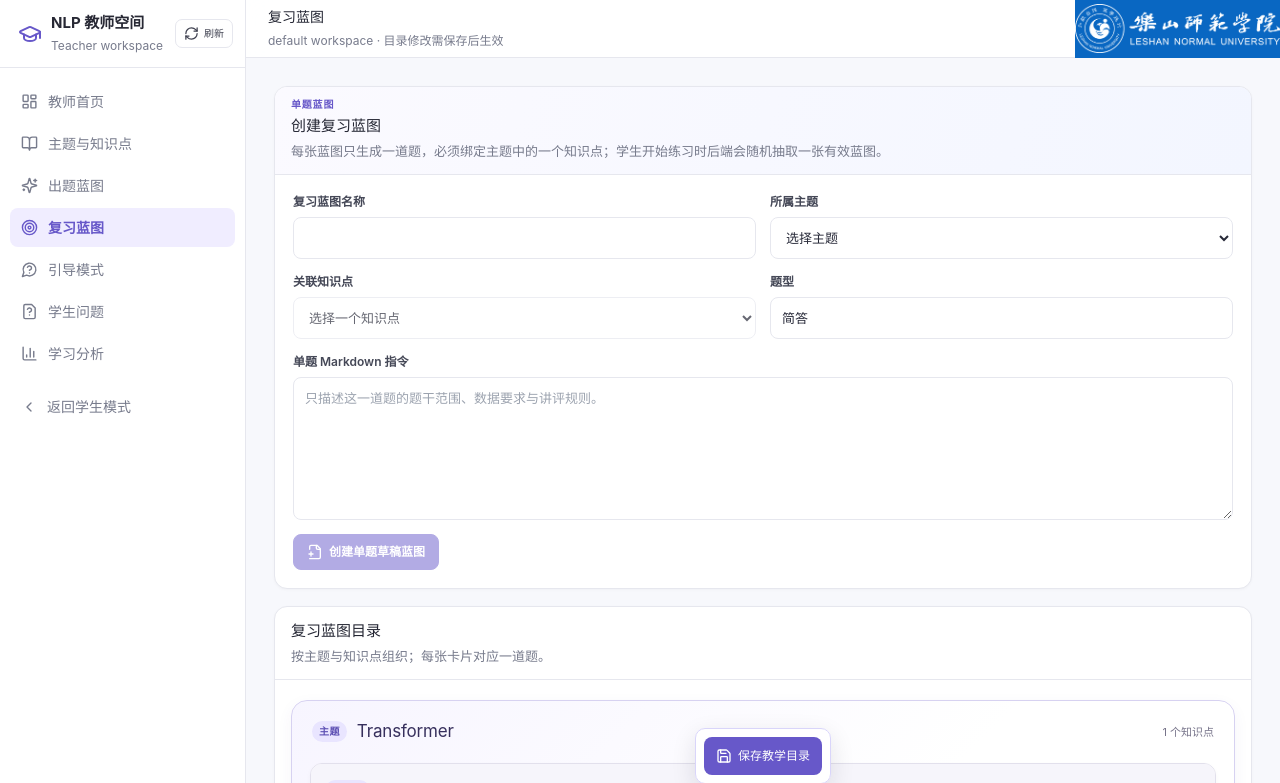
Scenario: TeacherWorkspace catalog CRUD › creates and deletes a review blueprint with its own structured fields
Type "Transformer 复习" into the field named "review蓝图名称" at (524, 238), box [293,217,756,259]
Select "Transformer" in the dropdown named "review所属主题" at (1002, 238), box [770,217,1233,259]
Select "注意力" in the dropdown named "review关联知识点" at (524, 318), box [293,297,756,339]
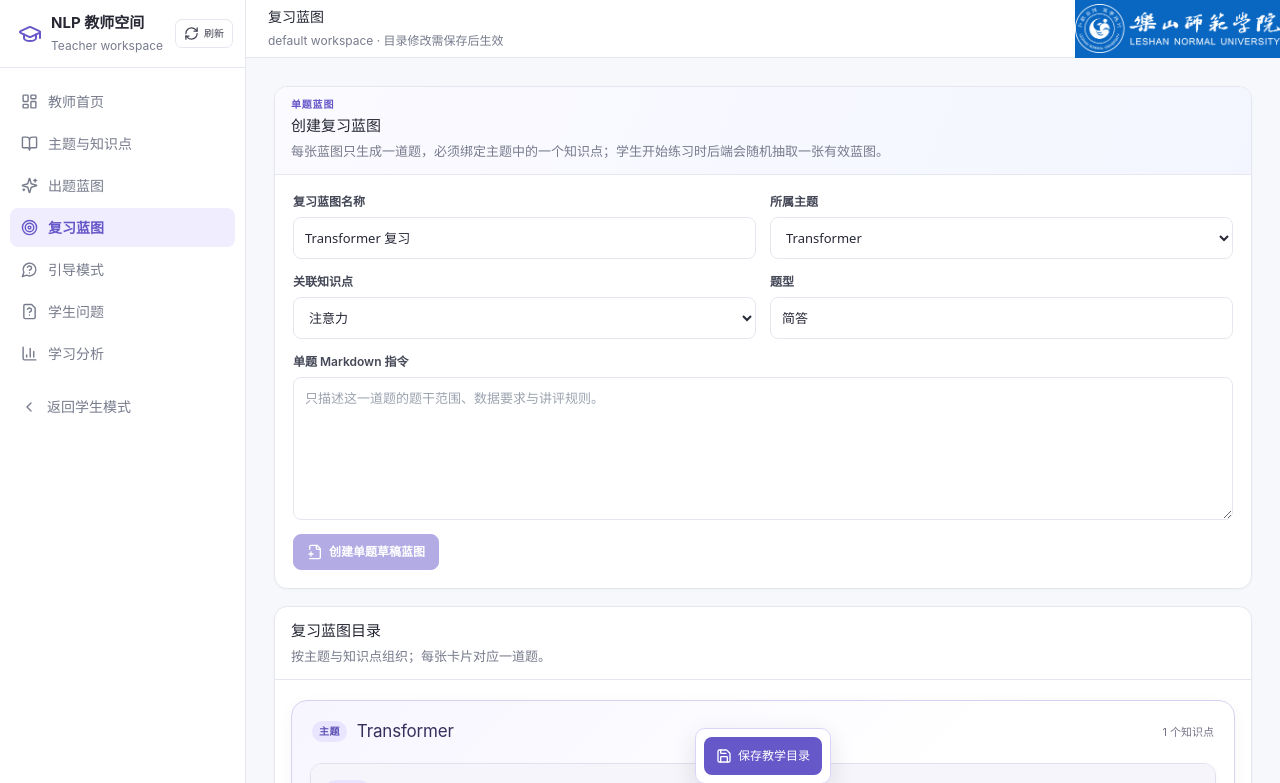
Type "先回顾再练习。" into the text box named "reviewMarkdown 指令" at (763, 449), box [293,377,1233,520]
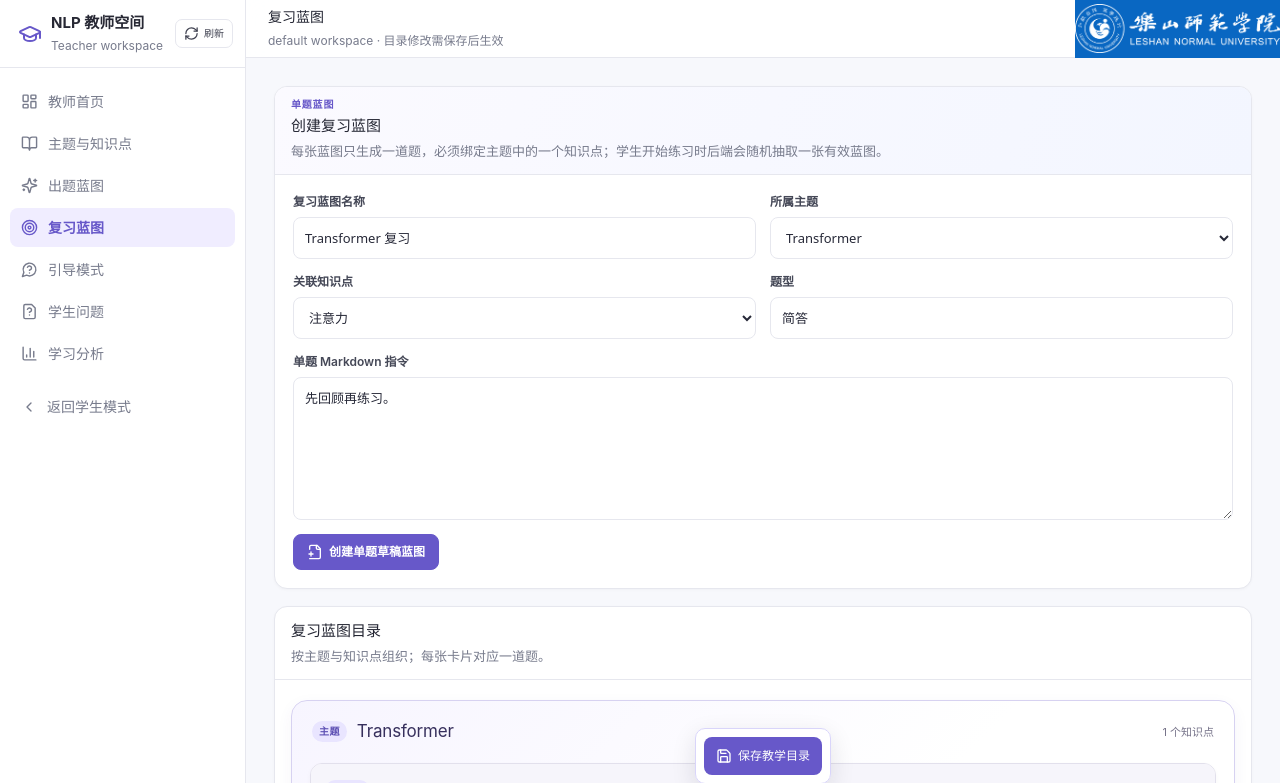
Click the button "创建单题草稿蓝图" at (366, 552), box [293,534,439,570]
(page scrolled)
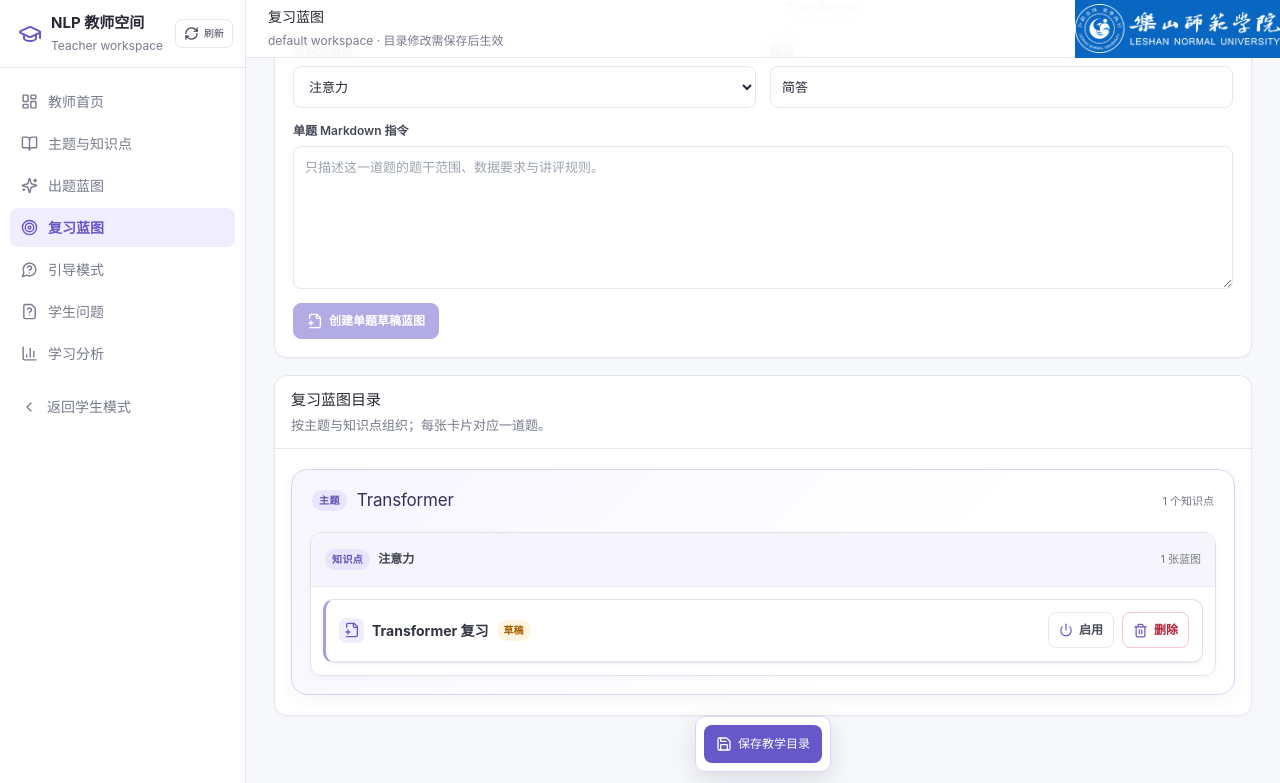
Click the button named "Transformer 复习 展开" at (430, 630), box [339,610,1036,651]
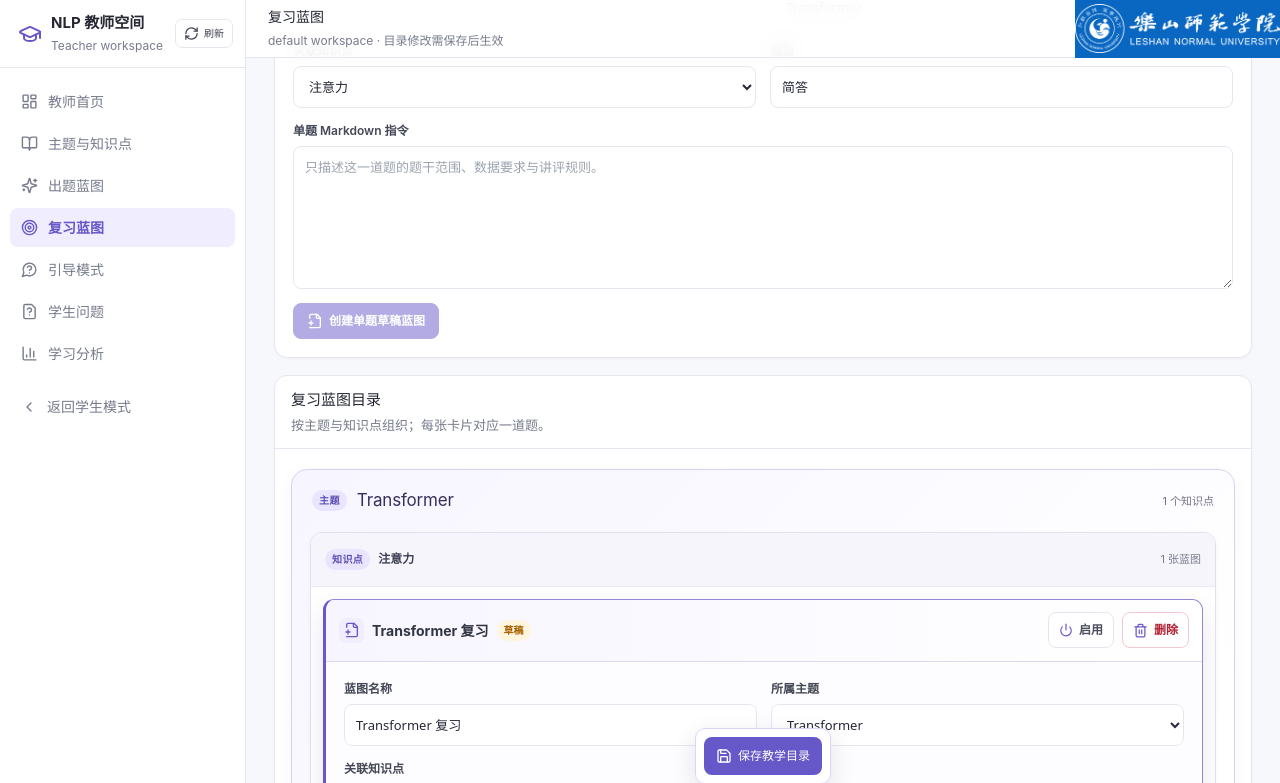
Check: the field showing "Transformer 复习" is shown, box [344,704,757,746]
Click the button "删除" at (1156, 630), box [1122,612,1189,648]
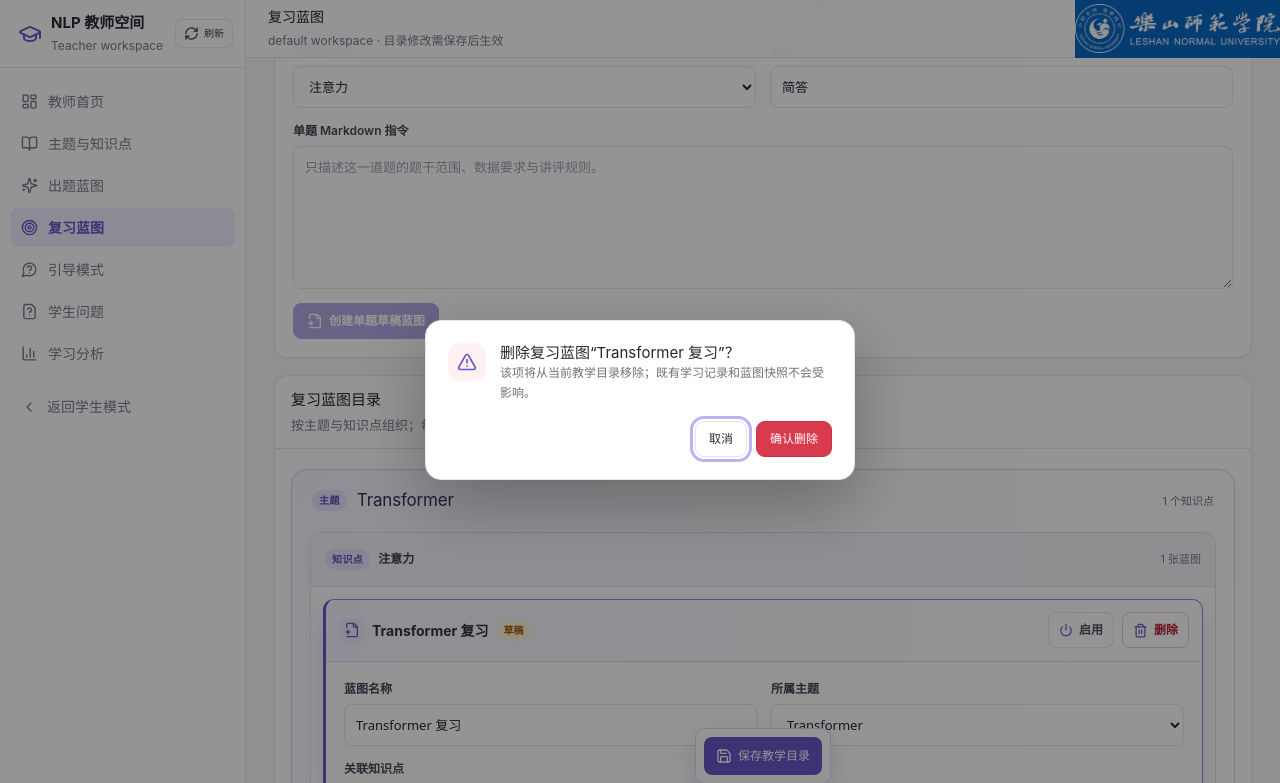
Click the button "确认删除" at (794, 439), box [756,421,832,457]
(page scrolled)
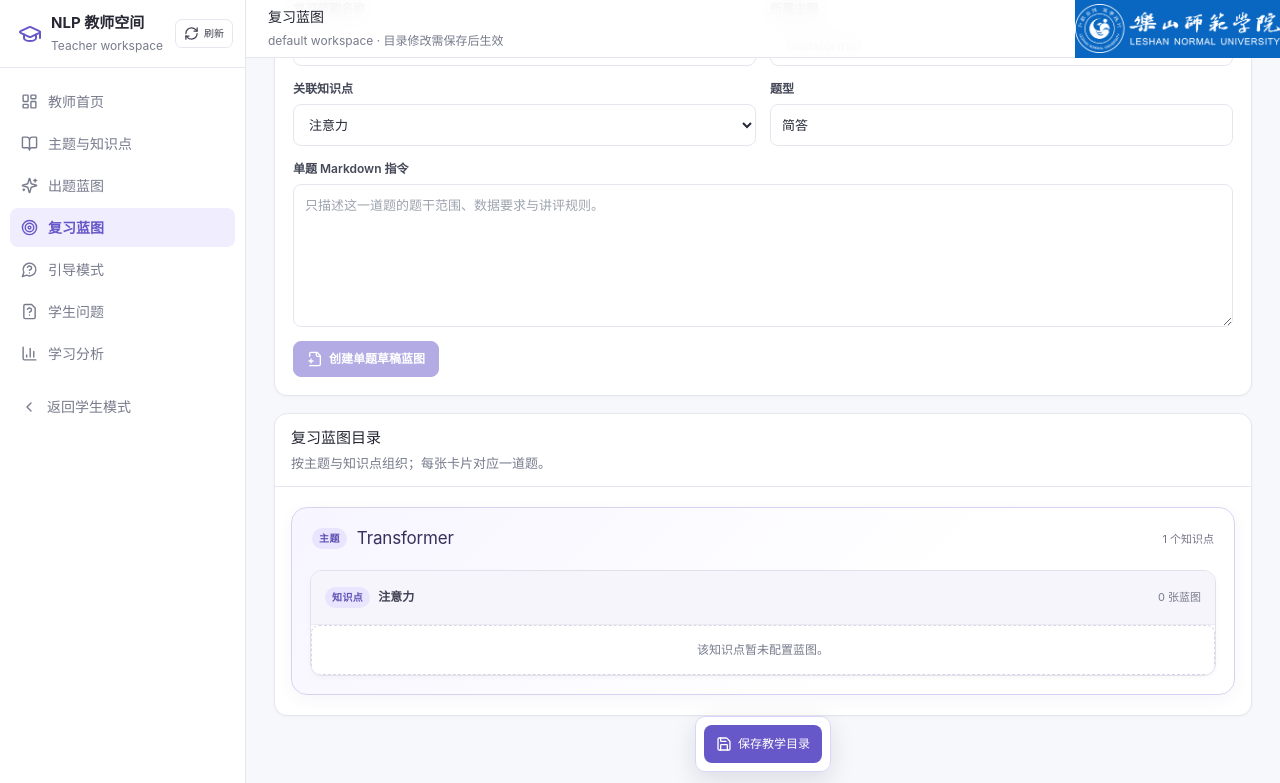
Check: the button showing "Transformer 复习" is gone
